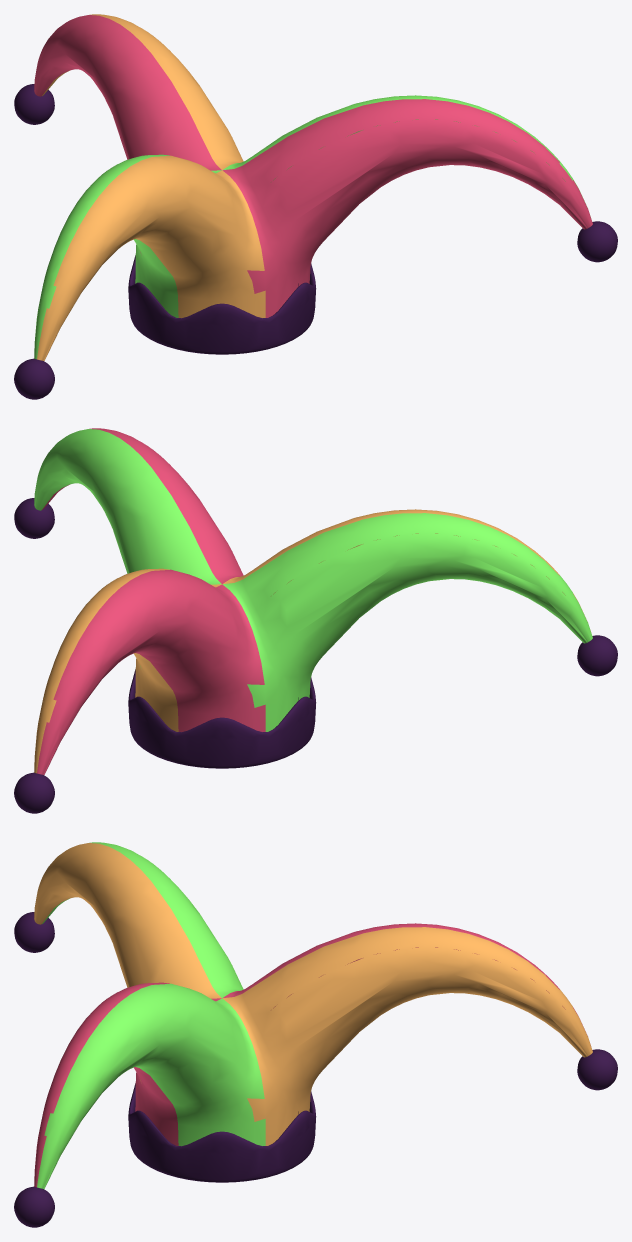
Rendered from Toy162.fbx.
3 renders of one model, top to bottom at view 1: azimuth 30°, elevation 25°; view 2: azimuth 150°, elevation 25°; view 3: azimuth 270°, elevation 25°, orthographic.
Visible parts, largest first — view 1: Toy162; view 2: Toy162; view 3: Toy162.
Boxes of the visible parts, x1,y1,x2,y2 form: Toy162: (14, 14, 617, 399); Toy162: (14, 428, 617, 813); Toy162: (14, 842, 617, 1227).
Bounding box in the file's own units: 0.2848 × 0.0989 × 0.2489.
